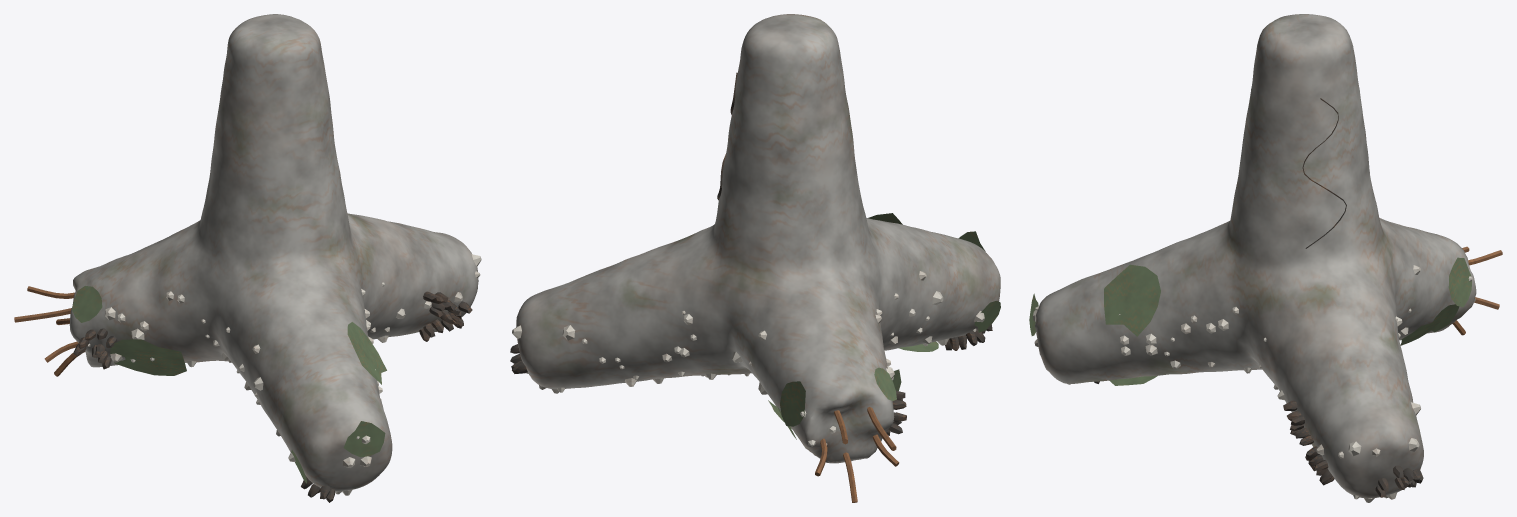
File: SM_Tetrapod.fbx
The picture shows the model from 3 angles, left to right: view 1: azimuth 30°, elevation 25°; view 2: azimuth 150°, elevation 25°; view 3: azimuth 270°, elevation 25°; orthographic projection. The views are drawn at different scales.
Visible parts, largest first — view 1: SM_Tetrapod; view 2: SM_Tetrapod; view 3: SM_Tetrapod.
Boxes of the visible parts, x1,y1,x2,y2 form: SM_Tetrapod: (14,14,481,502); SM_Tetrapod: (510,14,1000,502); SM_Tetrapod: (1029,14,1502,502).
Bounding box in the file's own units: 2.25 × 1.97 × 2.2.
1 material, 1 textured.
